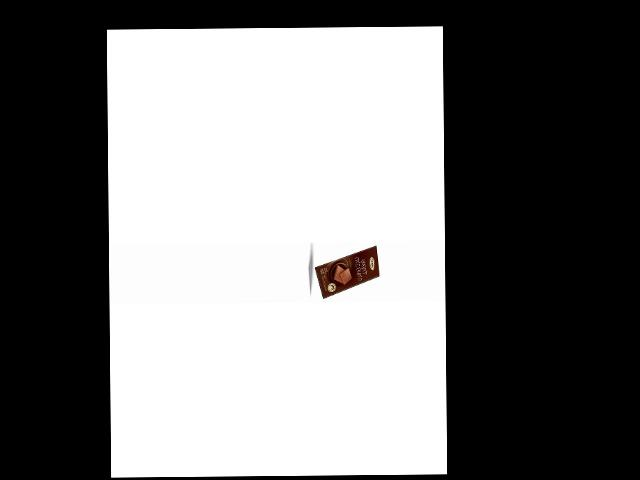chocolate: (311, 244, 380, 300)
